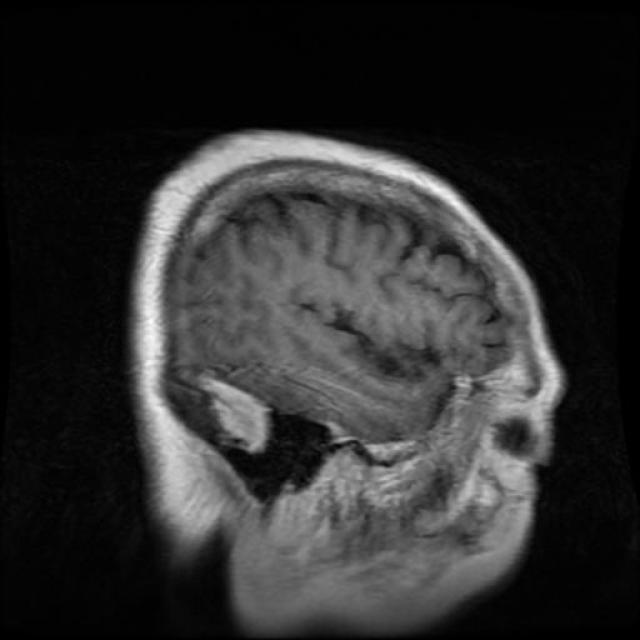meningioma: (200, 378, 272, 455)
